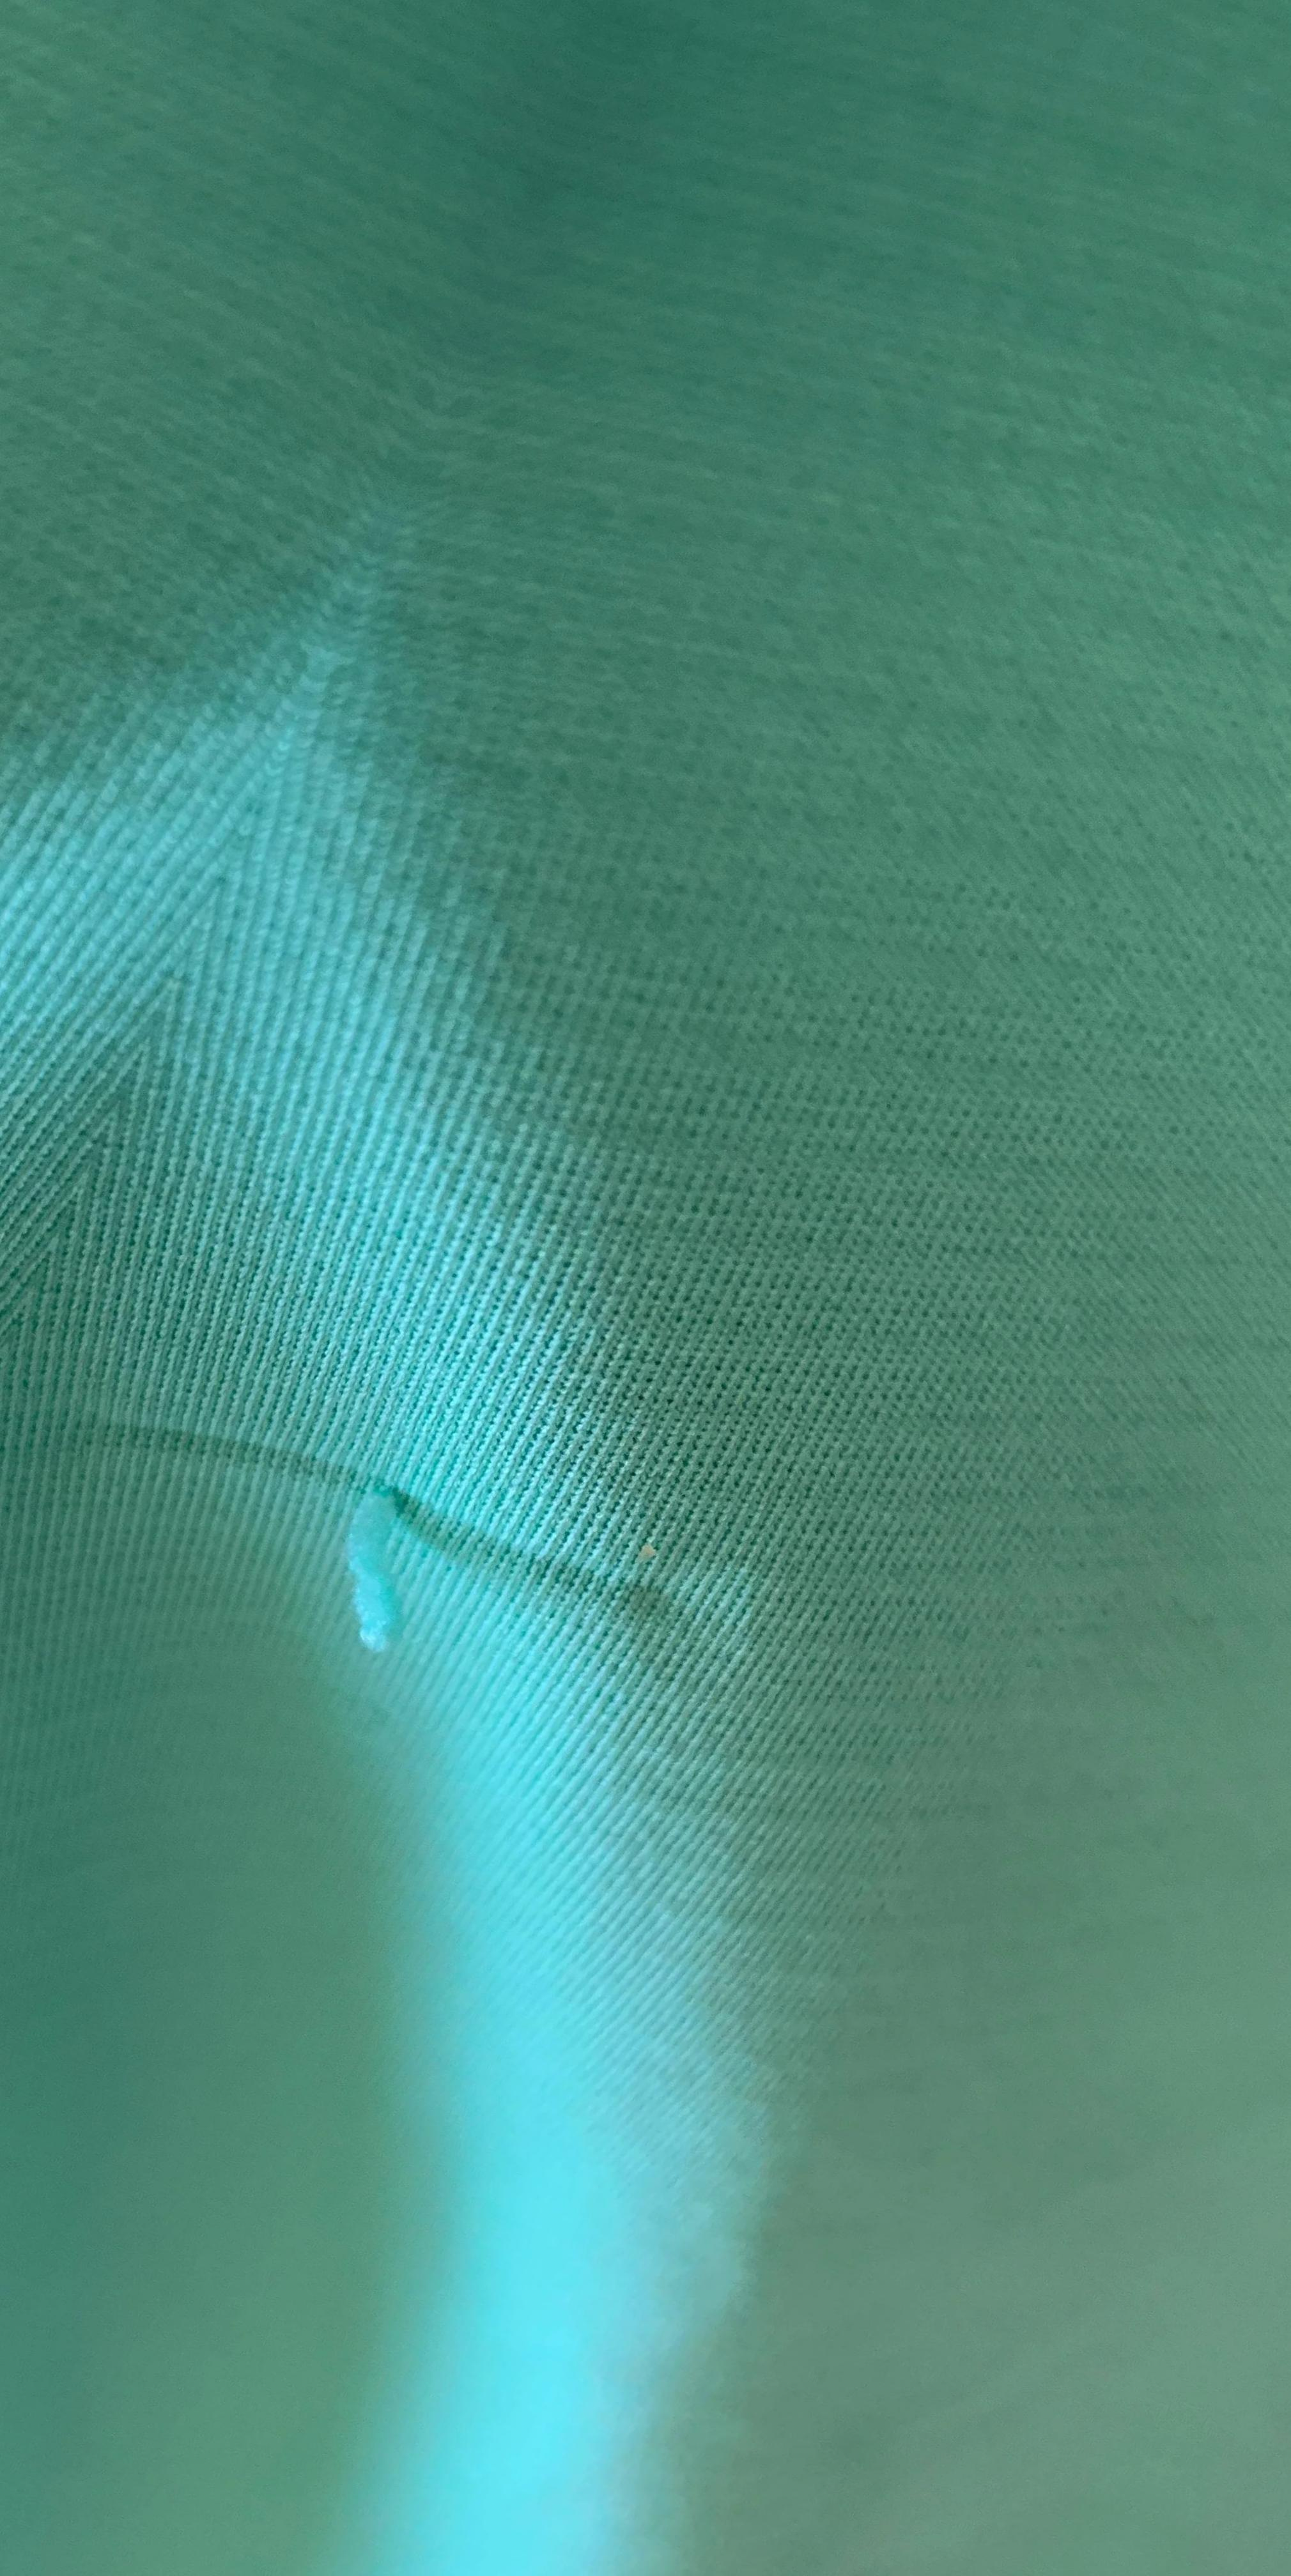snag: (263, 1397, 489, 1722)
